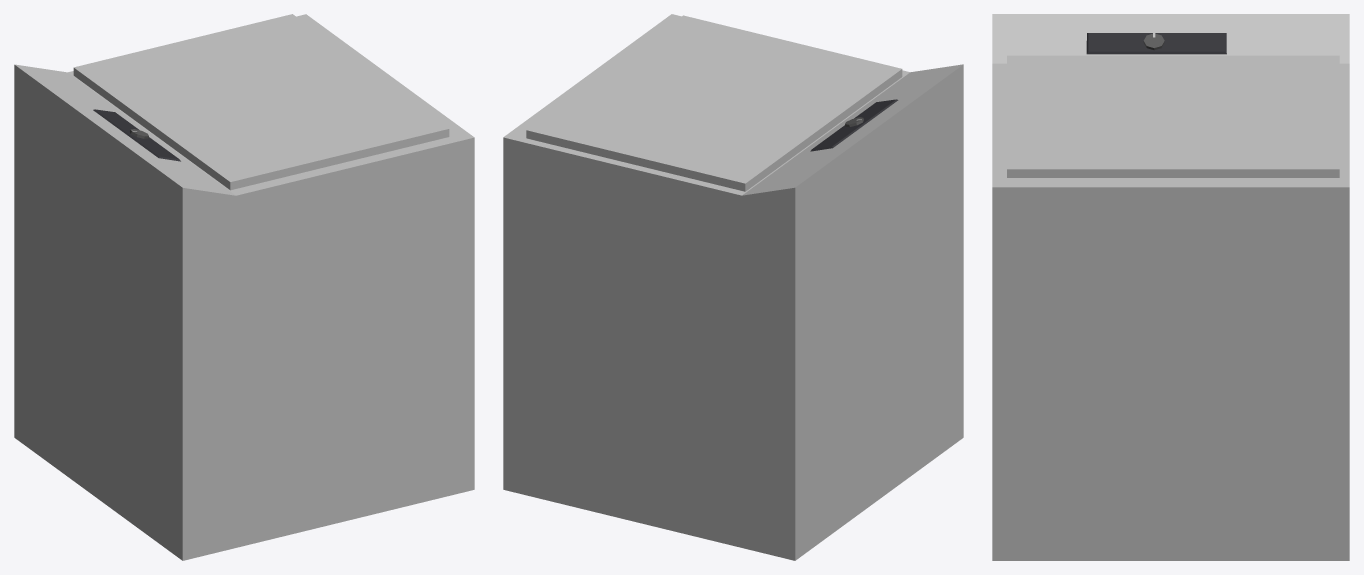
The model's file is washing machine textured.fbx.
3 views of the same model, side by side, from view 1: azimuth 30°, elevation 25°; view 2: azimuth 150°, elevation 25°; view 3: azimuth 270°, elevation 25° (orthographic). The views are drawn at different scales.
Parts seen in each view (by area): view 1: Machine up, Machine left, Hoodd, Machine down, Button Area; view 2: Machine up, Machine right, Hoodd, Machine down, Button Area; view 3: Machine down, Hoodd, Machine up, Button Area, Machine left, Machine right.
Part boxes in pixels (x1,y1,x2,y2): Machine up: (14, 64, 235, 560); Machine left: (236, 133, 474, 547); Hoodd: (73, 14, 449, 190); Machine down: (304, 14, 473, 137); Button Area: (93, 109, 180, 161); Machine up: (742, 64, 963, 560); Machine right: (503, 133, 742, 547); Hoodd: (526, 15, 902, 191); Machine down: (504, 14, 674, 137); Button Area: (810, 99, 898, 151); Machine down: (992, 178, 1349, 560); Hoodd: (1007, 55, 1339, 177); Machine up: (992, 14, 1349, 66); Button Area: (1086, 33, 1226, 54); Machine left: (992, 64, 1018, 186); Machine right: (1320, 64, 1349, 186).
Size of the model in its own units: 1456 by 1779 by 1456.
